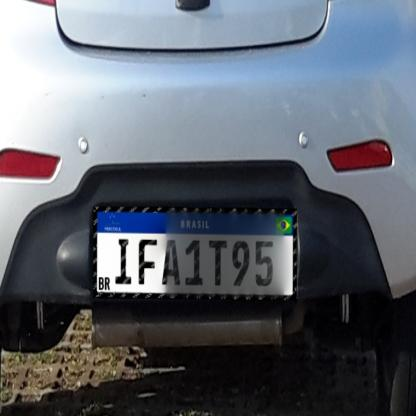PlacaM: (93, 206, 297, 300)
